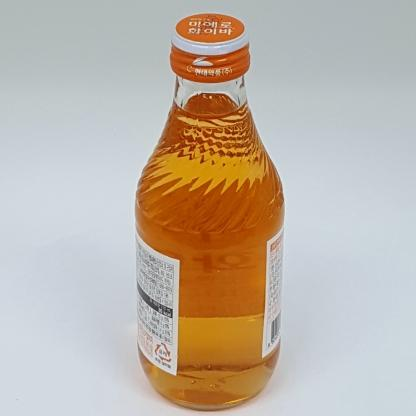--------210ML: (136, 13, 284, 413)
